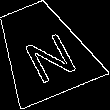N_NW: (10, 19, 76, 81)
